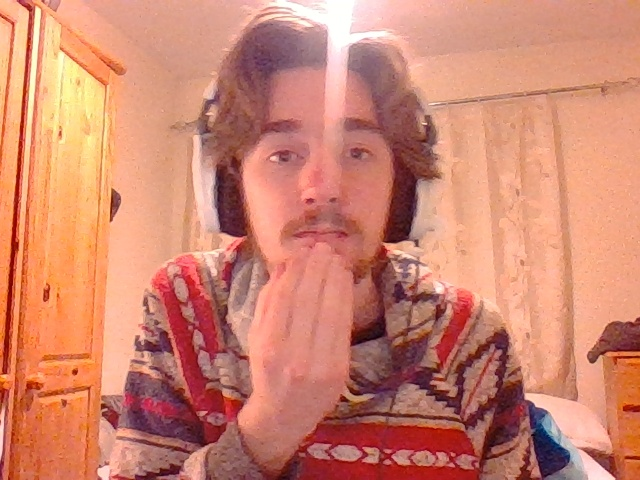thanks: (247, 242, 348, 433)
